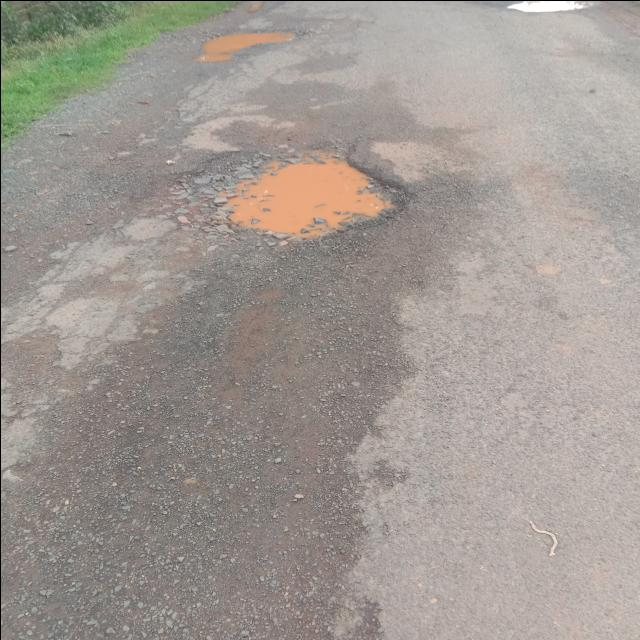potholes: (176, 134, 418, 246), (193, 20, 310, 69), (501, 2, 593, 14)
